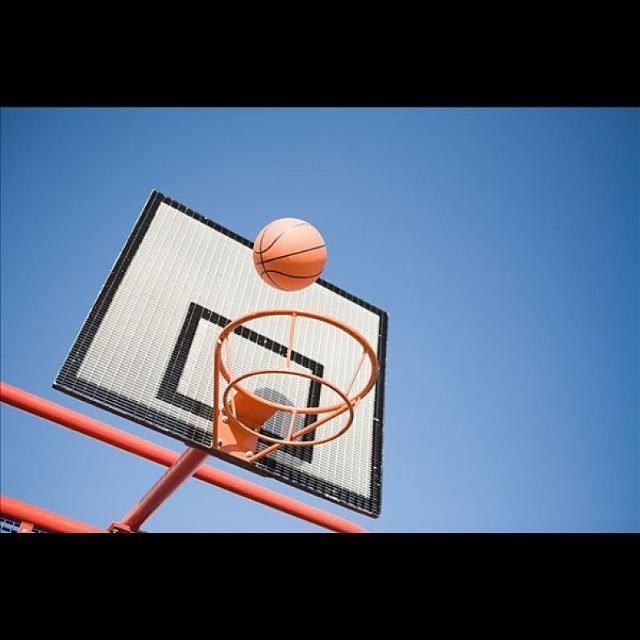basketball: (254, 218, 328, 292)
